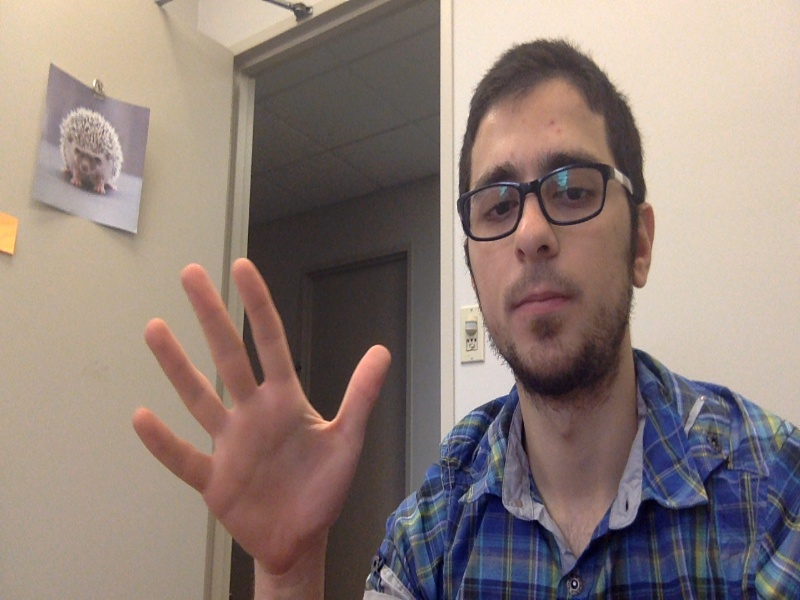5-hand: (129, 257, 394, 574)
